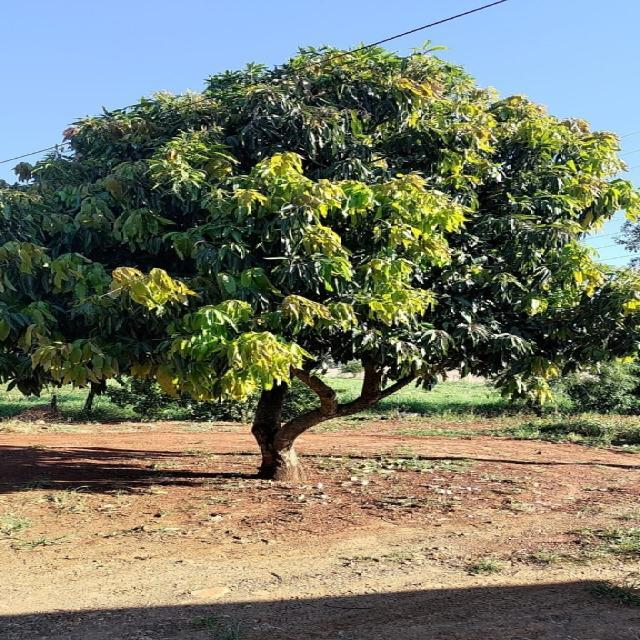Mango-Tree: (33, 40, 570, 477), (0, 68, 640, 389)
